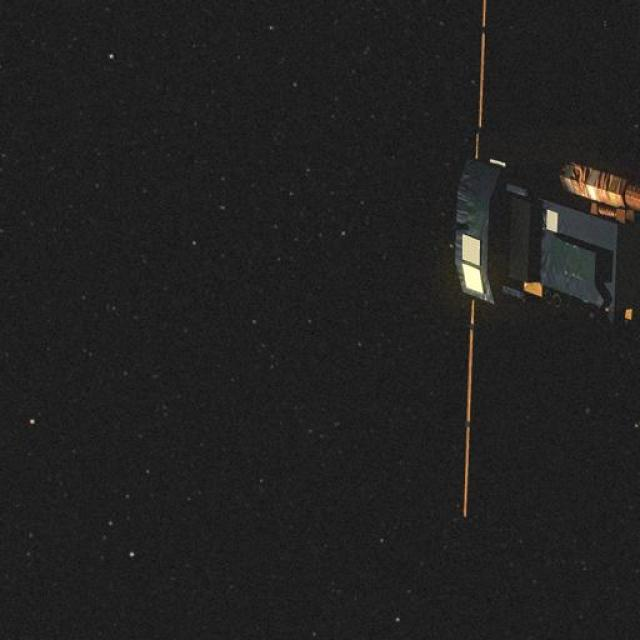soho: (452, 0, 640, 468)
